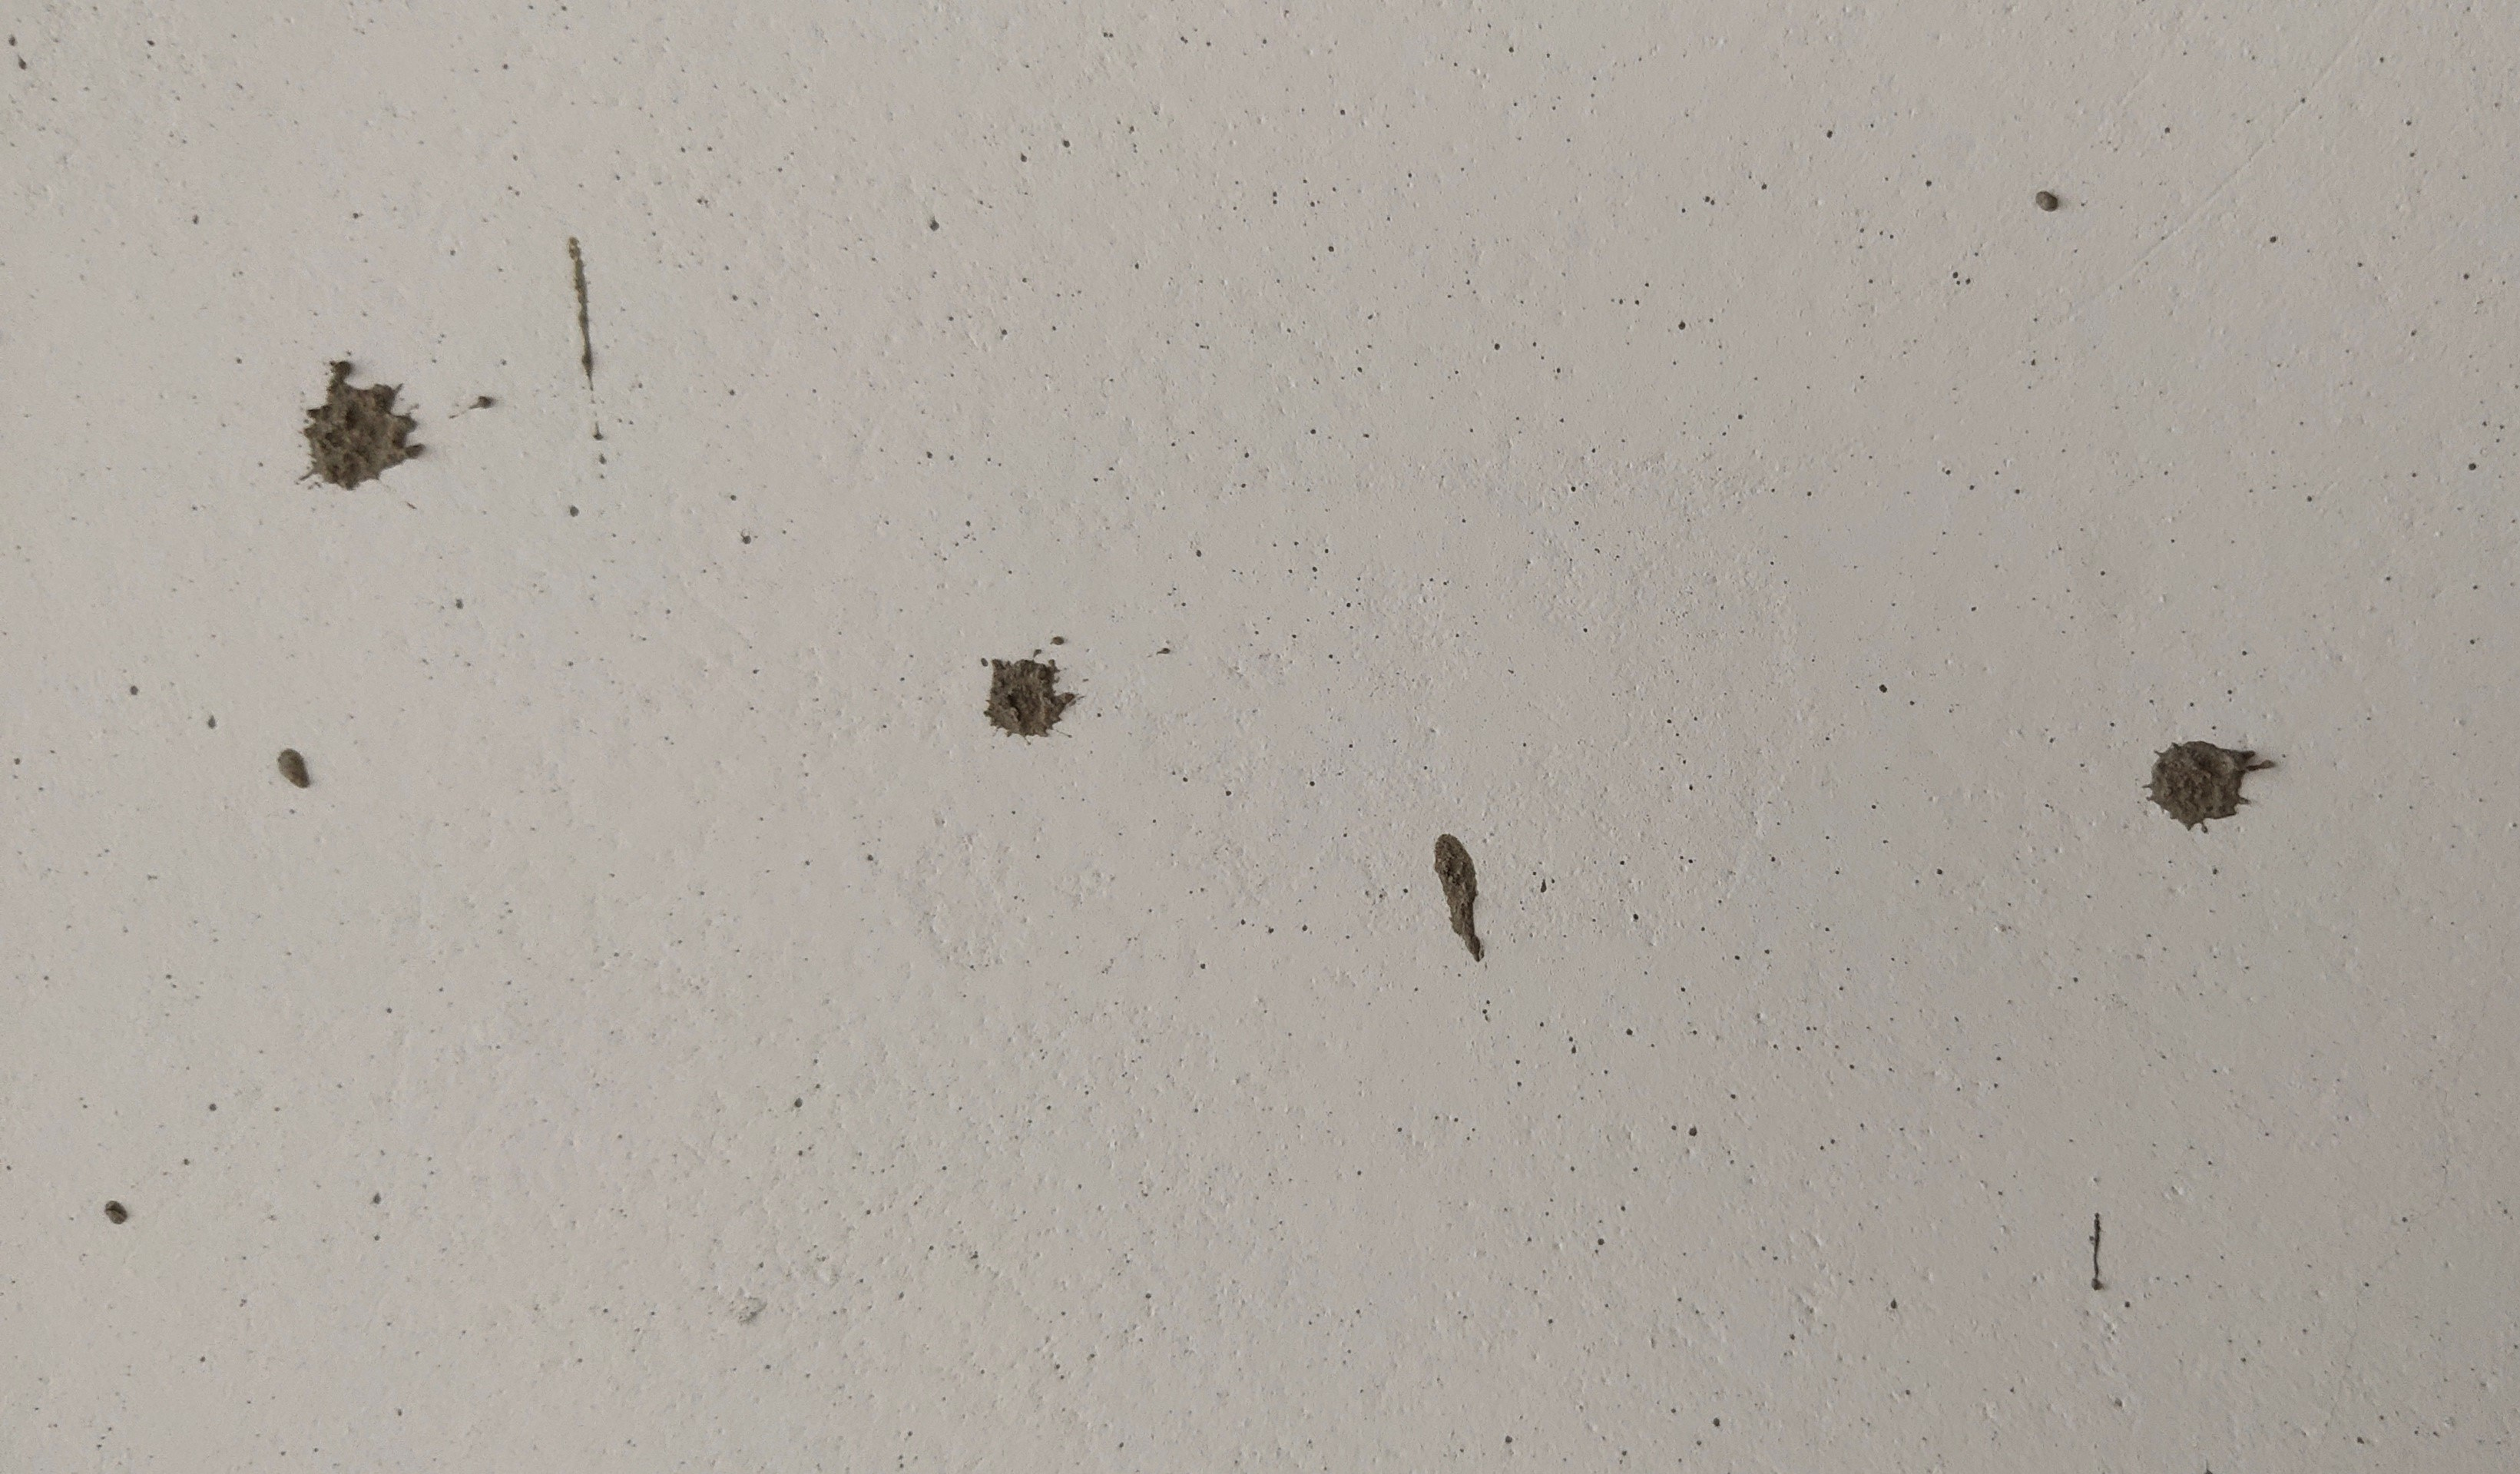grey spot: (303, 360, 426, 491), (2148, 741, 2280, 826), (984, 656, 1070, 739), (1436, 832, 1485, 958)
